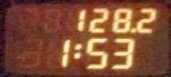-: (129, 27, 135, 32)
1: (59, 37, 69, 67), (75, 8, 85, 31)
2: (87, 7, 107, 32), (135, 7, 155, 32)
3: (109, 37, 133, 69)
5: (84, 37, 106, 68)
8: (110, 7, 131, 32)
X: (71, 43, 81, 58)
